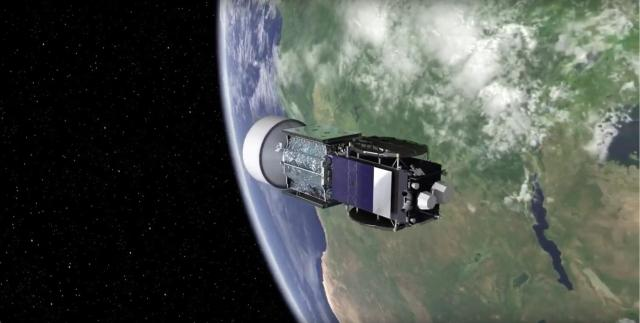antenna: (347, 135, 430, 158), (349, 205, 407, 232)
body: (284, 133, 443, 227)
solar: (330, 154, 394, 220), (281, 123, 363, 144), (281, 188, 343, 209)
